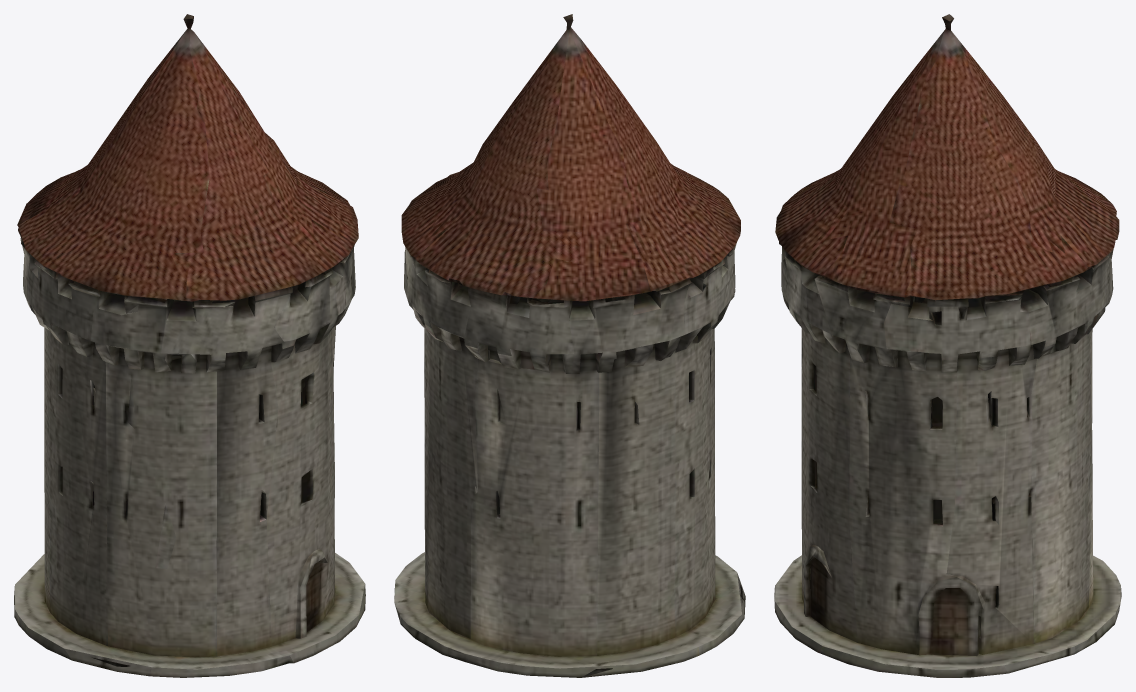
Rendered from tower.glb.
3 views of the same model, side by side, from view 1: azimuth 30°, elevation 25°; view 2: azimuth 150°, elevation 25°; view 3: azimuth 270°, elevation 25° (orthographic).
Visible parts, largest first — view 1: geometry_0; view 2: geometry_0; view 3: geometry_0.
Part boxes in pixels (bbox=[...]): geometry_0: bbox=[14, 14, 365, 677]; geometry_0: bbox=[394, 14, 745, 677]; geometry_0: bbox=[774, 14, 1121, 677].
Bounding box in the file's own units: 0.9822 × 1.8 × 0.9626.
Materials: 1 (1 with a texture image).
